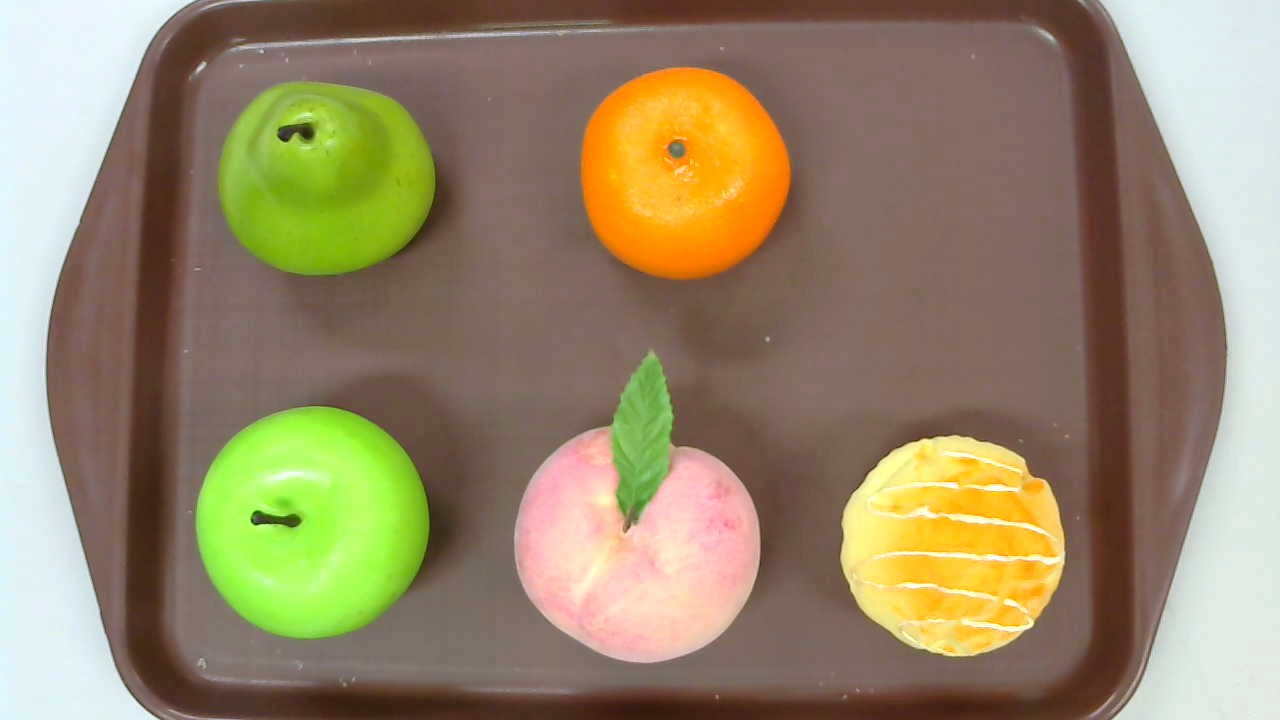cupcake: (838, 434, 1066, 657)
green apple: (195, 406, 429, 638)
green pear: (218, 81, 435, 275)
orange: (580, 67, 790, 279)
peach: (513, 349, 761, 664)
